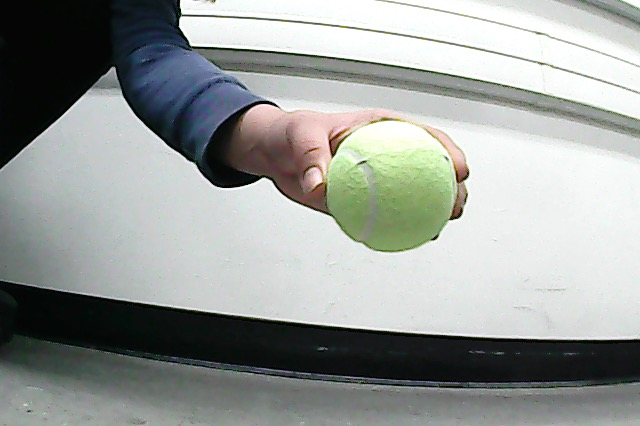ball: (323, 116, 461, 256)
